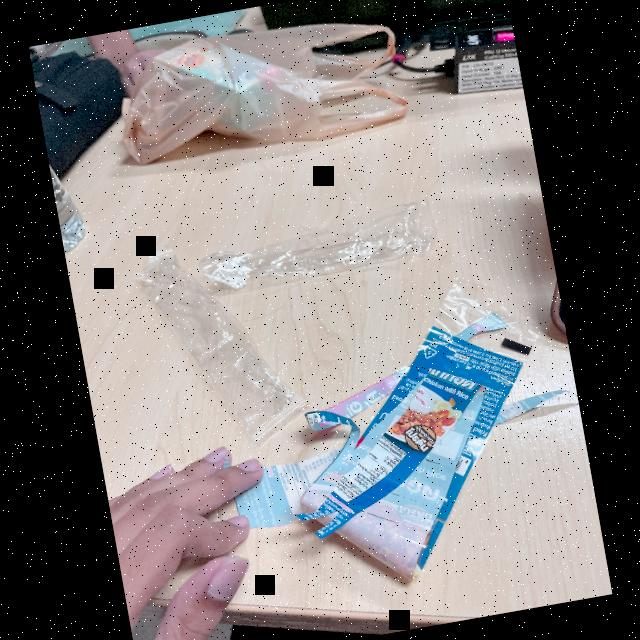scrap_plastic: (270, 272, 574, 592), (112, 221, 304, 452), (192, 194, 452, 298)
